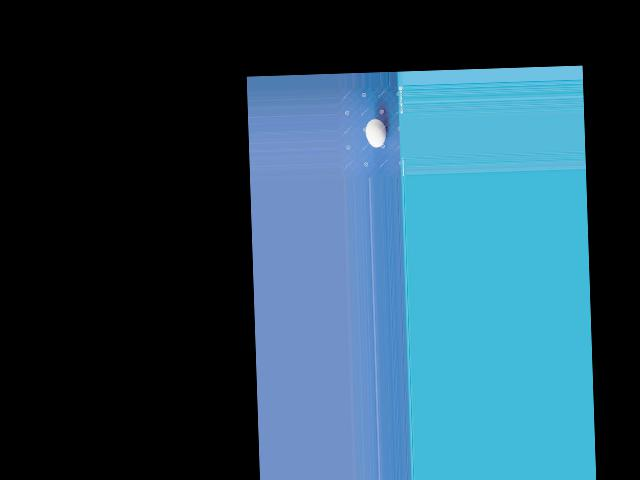egg: (365, 119, 387, 148)
